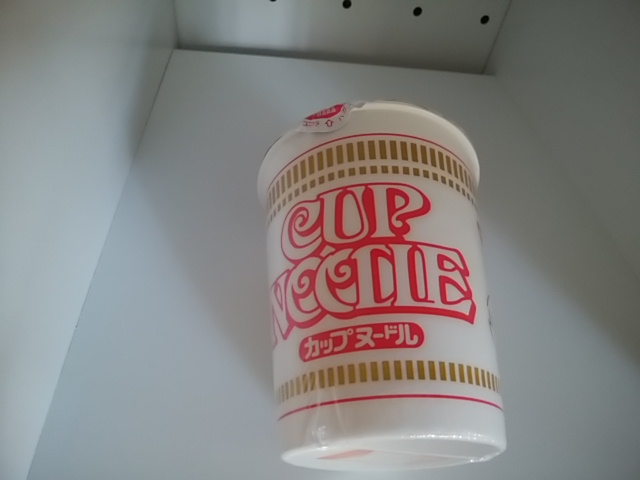cup-ramen: (253, 95, 519, 474)
